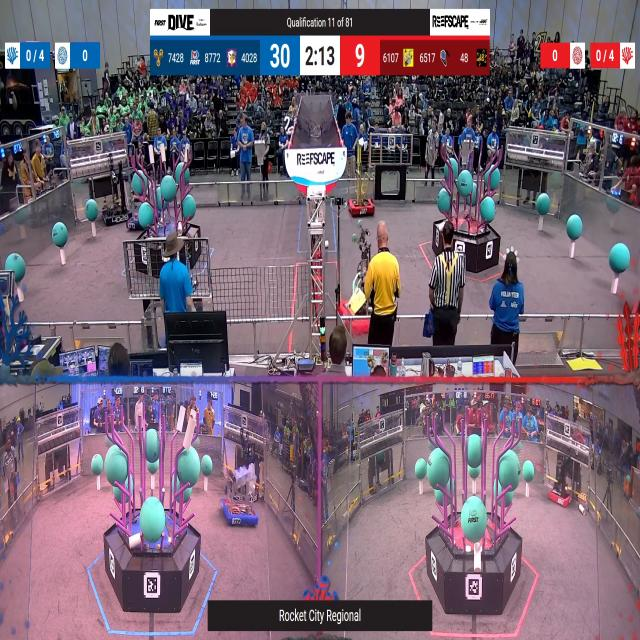scoreboard: (150, 37, 490, 76)
